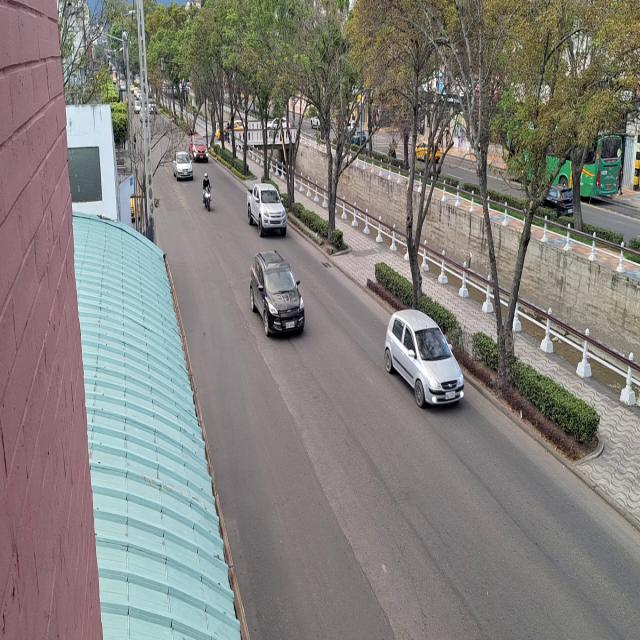CMT: (248, 183, 288, 236)
MOTORCYCLE: (204, 187, 214, 213)
SED: (388, 315, 466, 410), (173, 153, 195, 182)
SUV: (251, 256, 306, 338)
